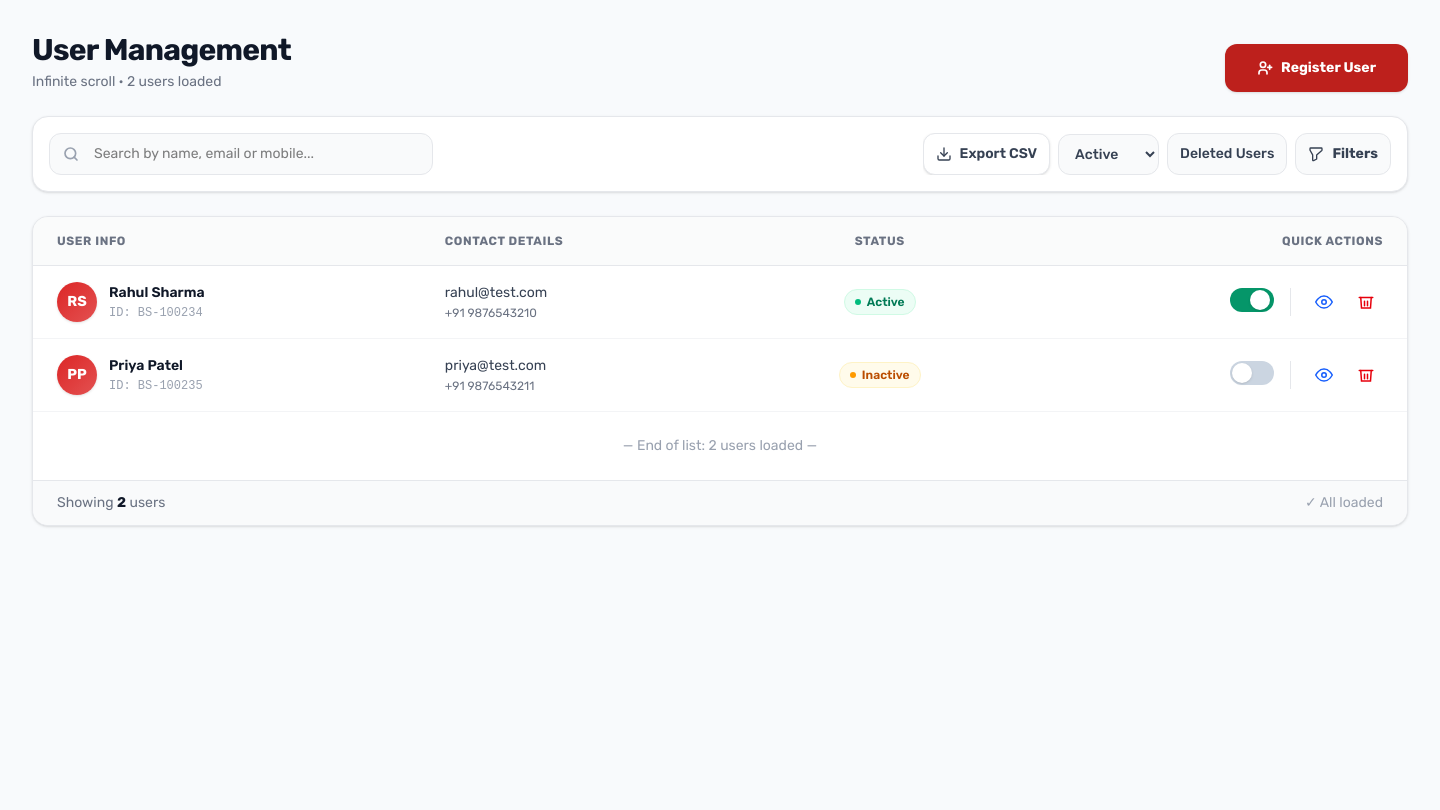
Test: ApproveReject Component › should open the delete confirmation modal when Delete User button is clicked
The width and height of the screenshot is (1440, 810).
Click the button titled "Delete User" in the row of "Sharma": [1366, 302] box [1349,285,1383,319]
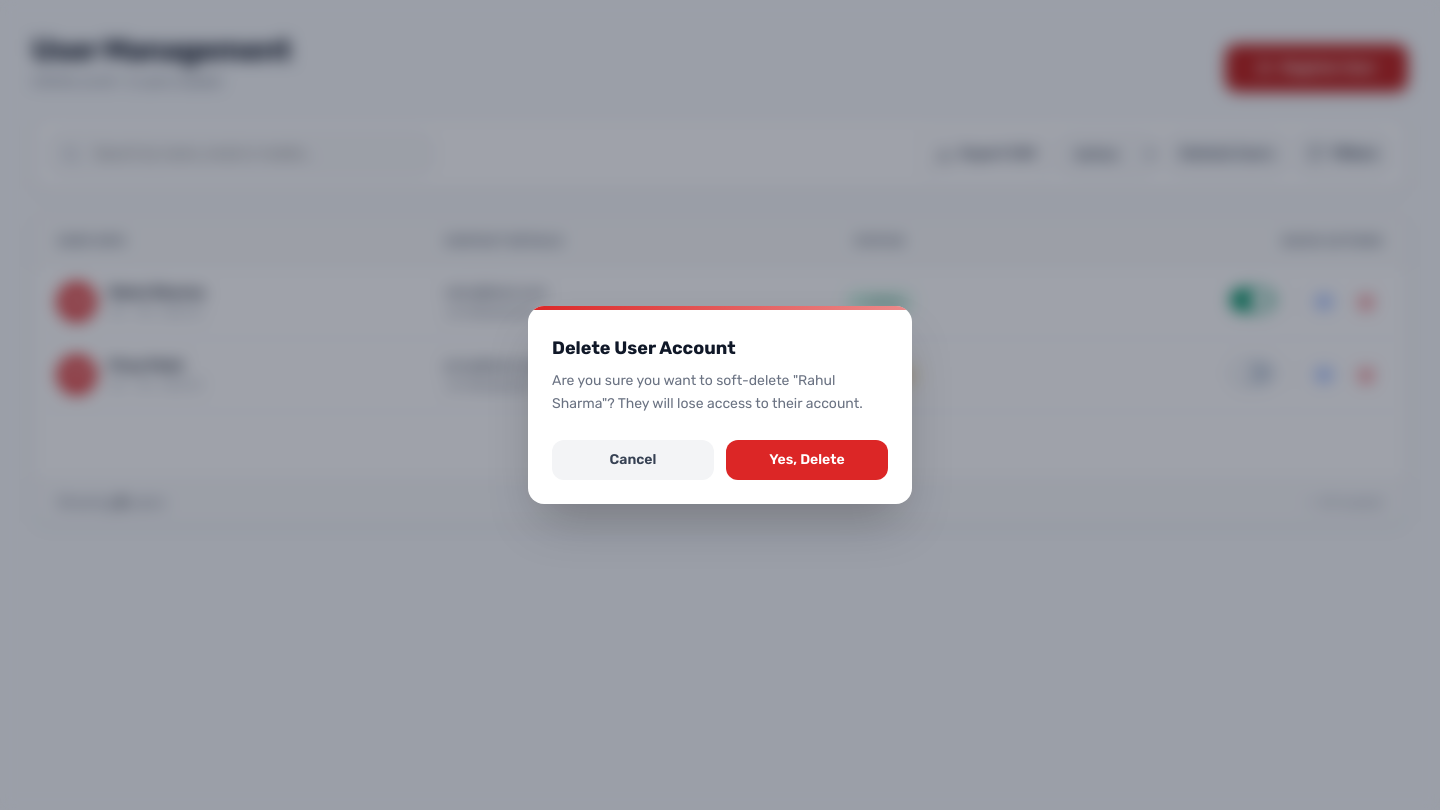
Now the heading "Delete User Account" is shown, box [552,337,736,359]
Now the text "Are you sure you want to soft-delete \"Rahul" is shown, box [552,372,863,412]
